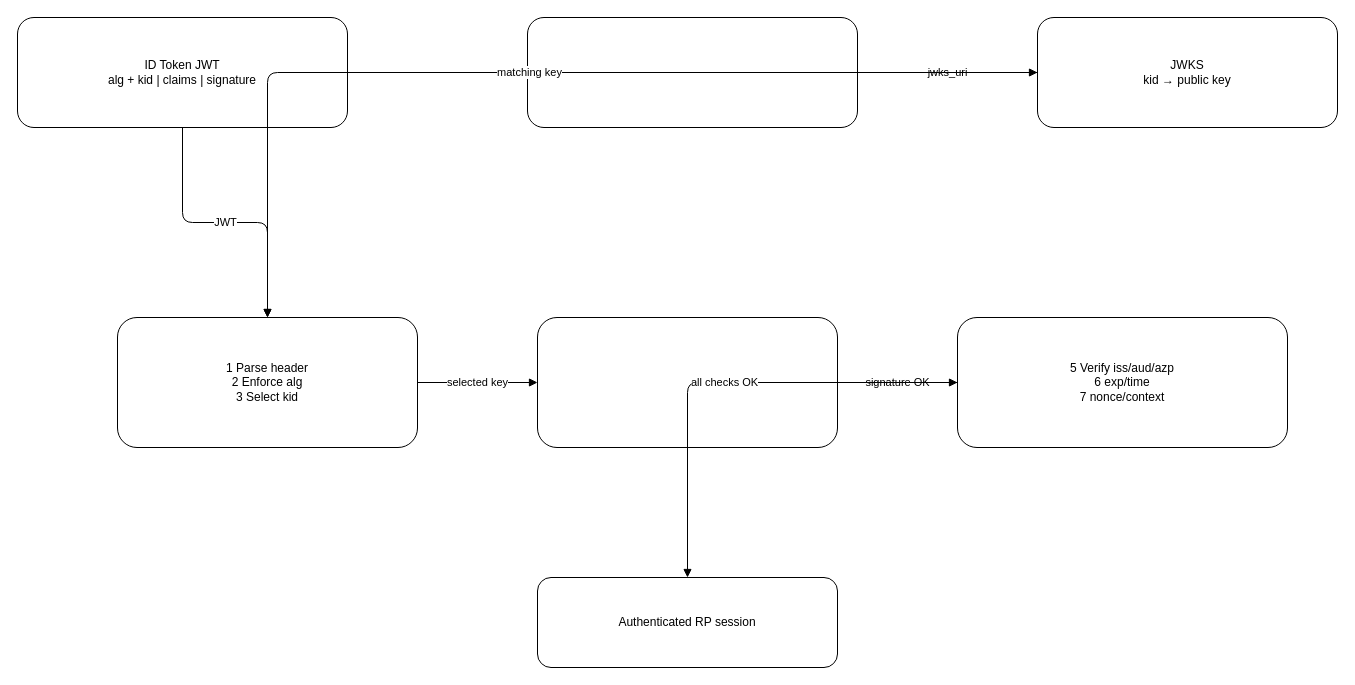
Image size: 1355x685. Some labels were removed from this diagram. The shapes that lost their labels are listed below. From the top down, each one's box as (x1, y1, x2, y2) in pixels, then its label:
(526, 16, 858, 128): Trusted OIDC Discovery issuer + jwks_uri + algorithms
(536, 316, 838, 448): 4 Verify signature
